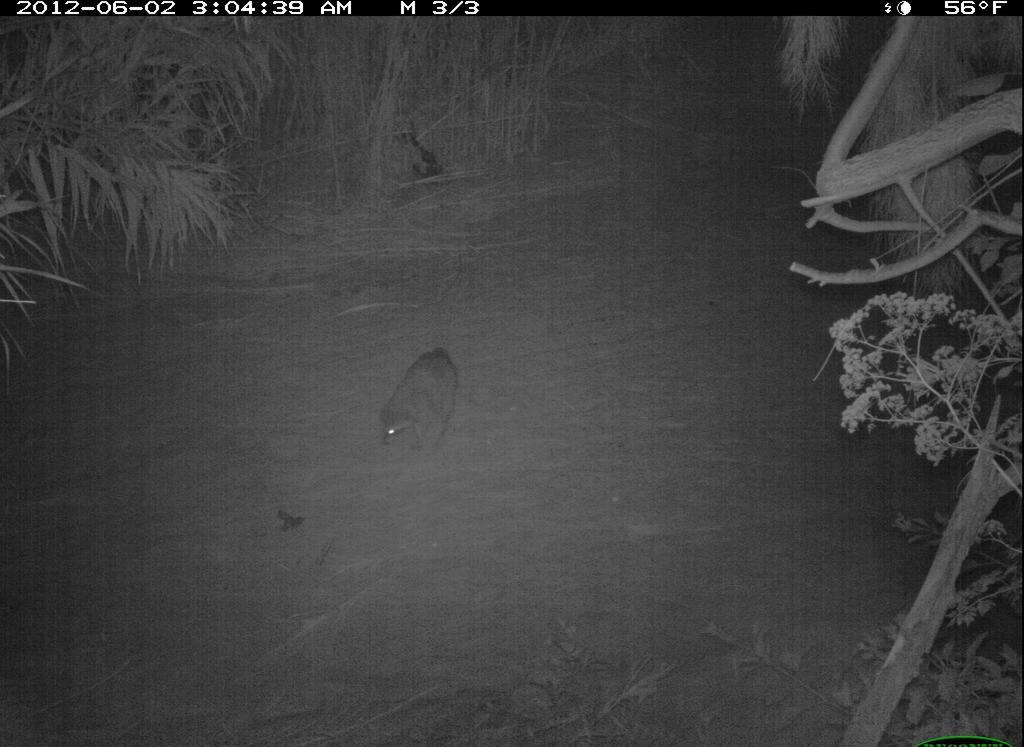raccoon: (359, 323, 489, 457)
